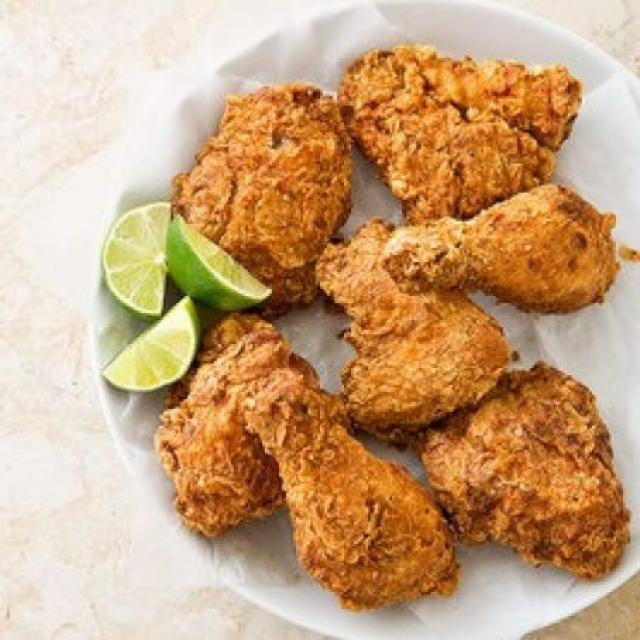Frango: (148, 42, 626, 614)
